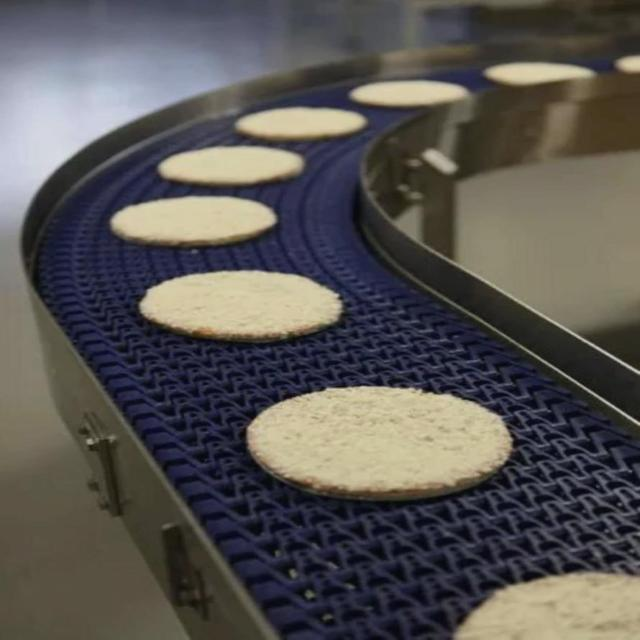food: (243, 383, 514, 502), (135, 265, 357, 348)
